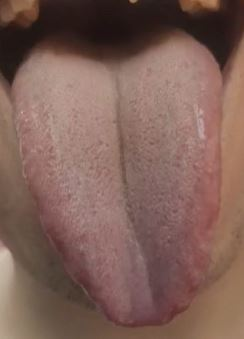baitaishe: (11, 27, 223, 327)
